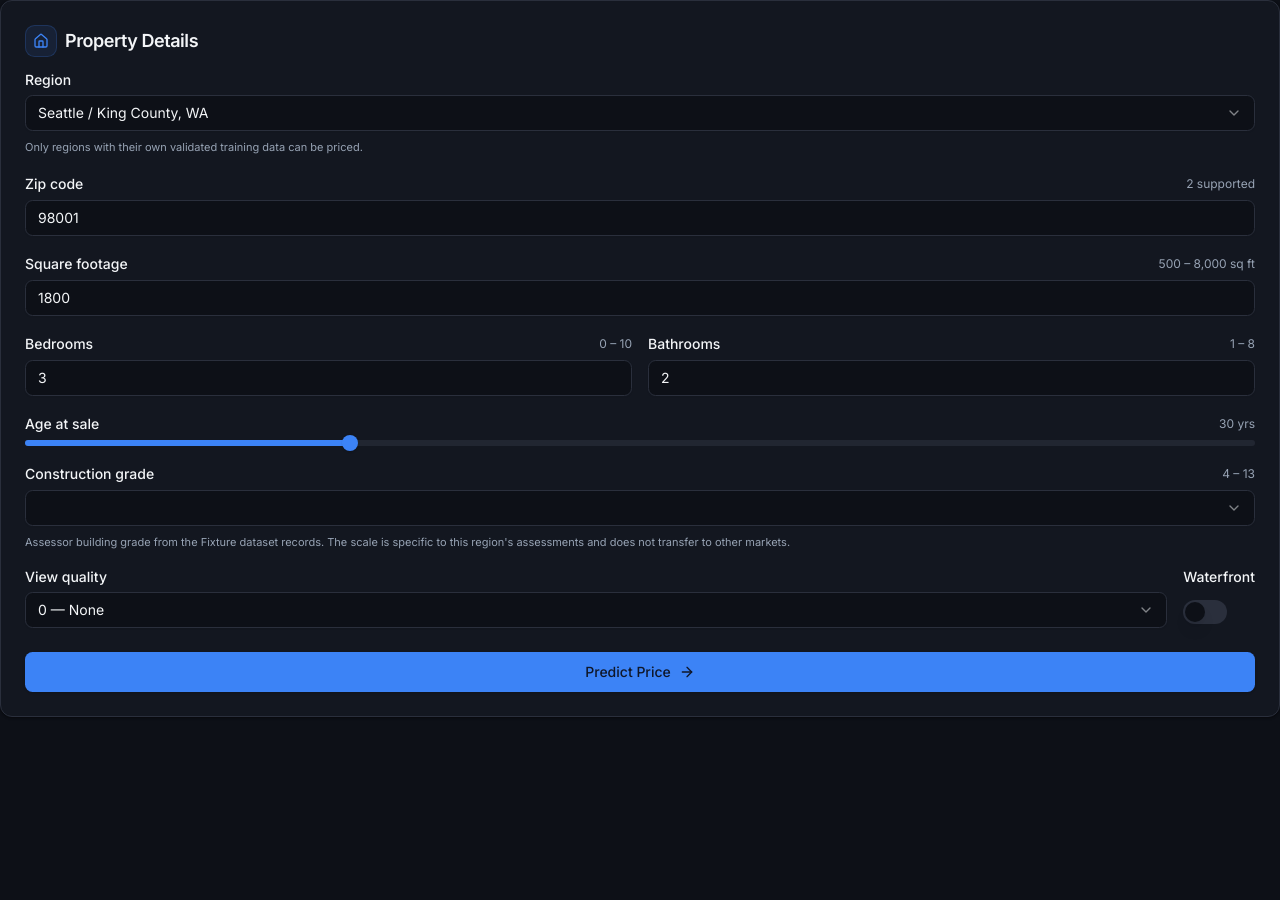
Test: PredictionForm › maps an API 422 onto the highlighted field
The image size is (1280, 900).
Click the button "Predict Price": (640, 672) [25,652,1255,692]
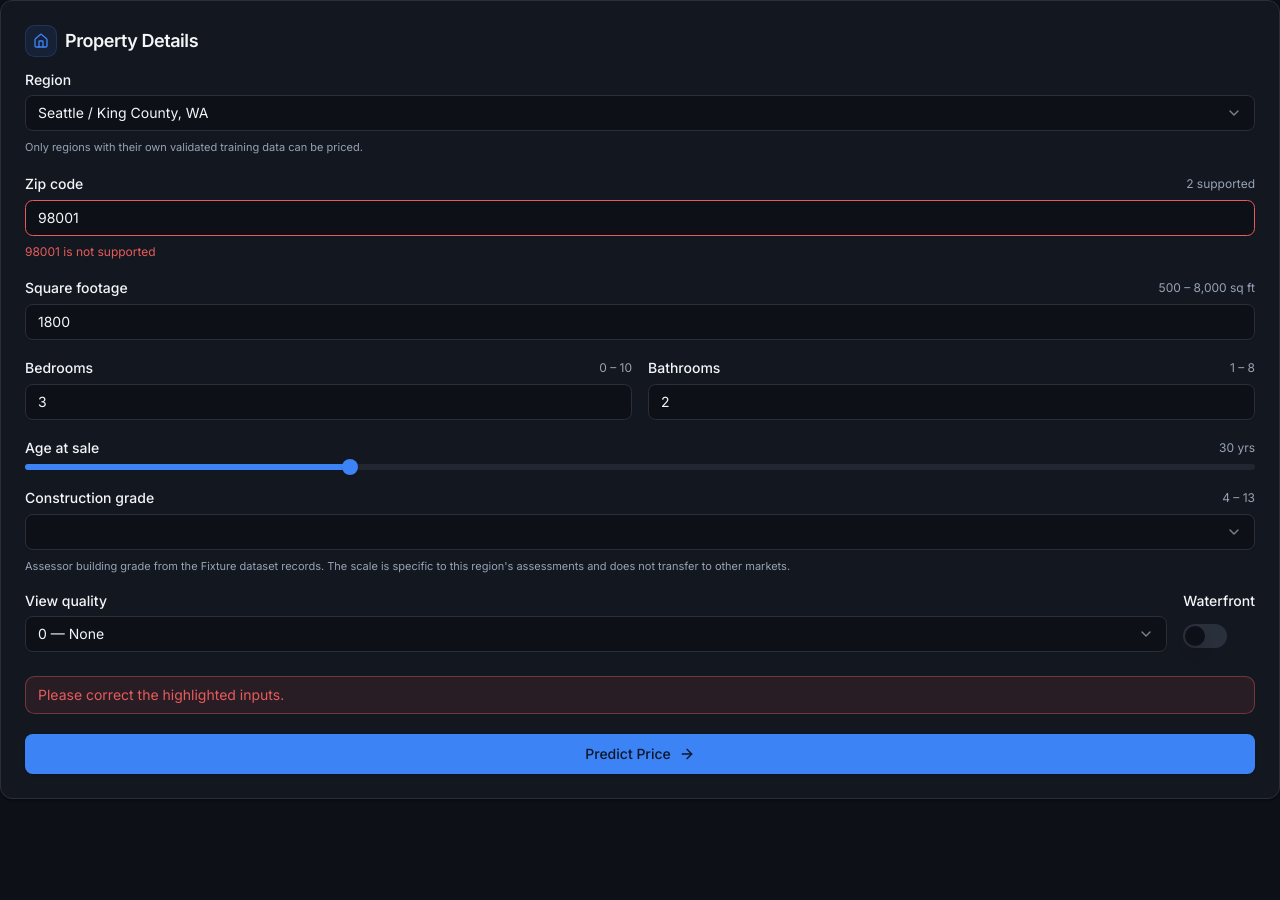
expect the text "98001 is not supported" is shown: met, box [25,244,156,258]
expect the message reads "Please correct the highlighted inputs.": met, box [38,686,284,703]
